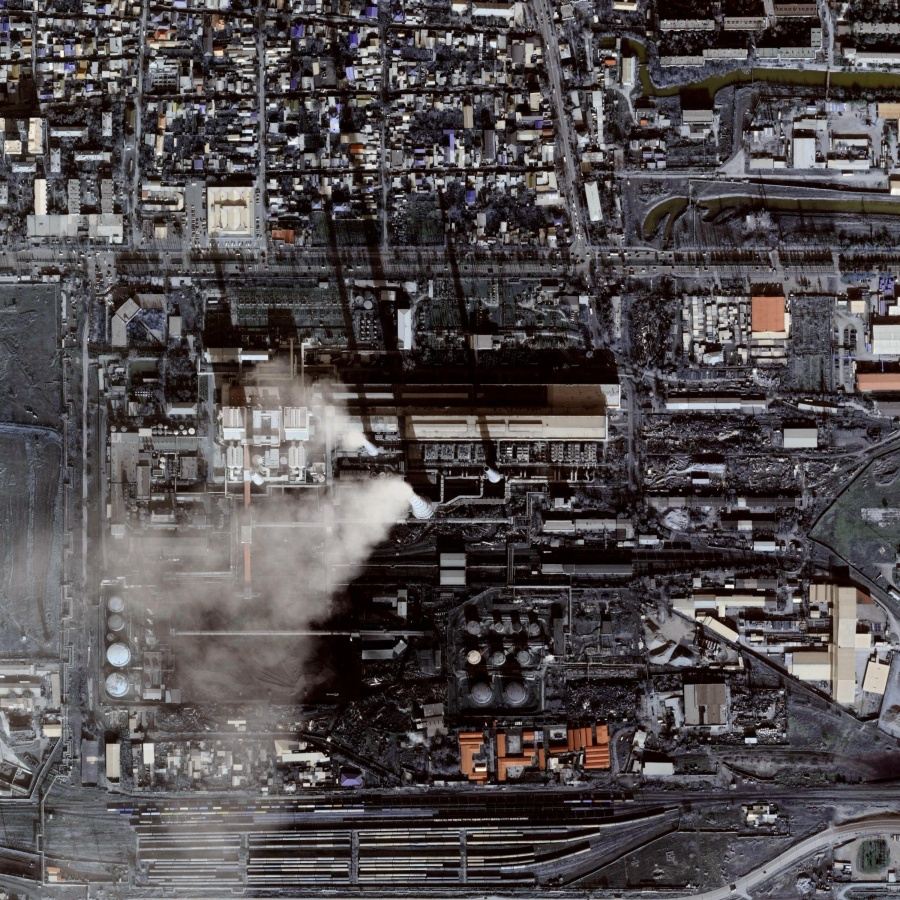PowerPlant: (110, 405, 614, 719)
